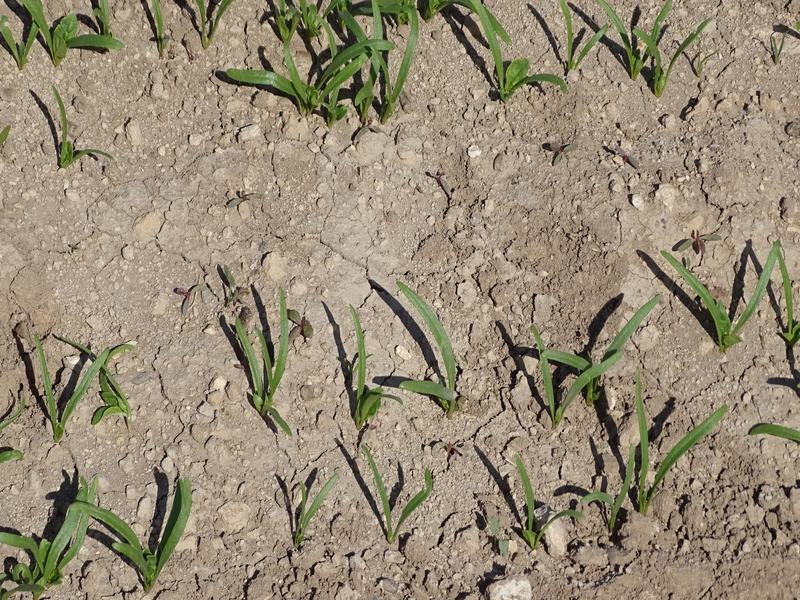Espinaca: (2, 1, 424, 121), (517, 401, 734, 542), (4, 472, 205, 596), (331, 278, 462, 427), (531, 302, 648, 419), (219, 287, 306, 432), (671, 237, 776, 349), (468, 8, 567, 105), (40, 342, 139, 435), (612, 9, 700, 94), (360, 445, 432, 532), (52, 96, 114, 170), (291, 470, 339, 547), (562, 15, 610, 67), (754, 421, 800, 452)
